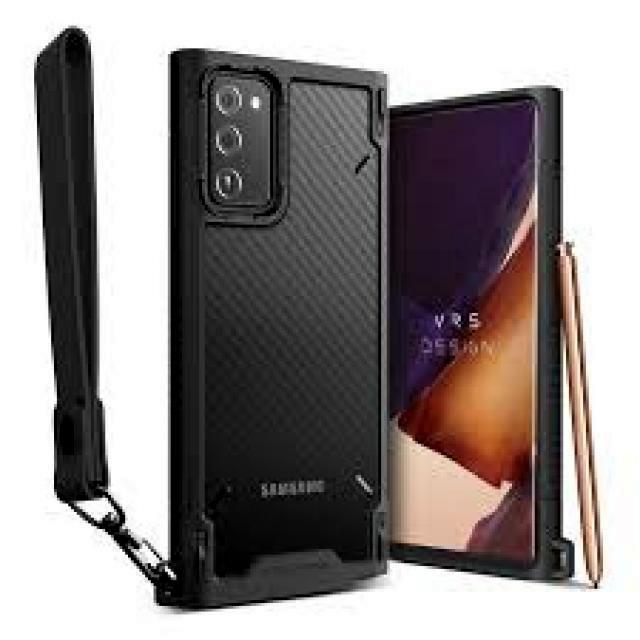lens_back: (209, 77, 248, 121), (212, 164, 245, 202), (212, 123, 246, 158)
phone: (163, 47, 395, 615), (385, 82, 568, 584)
